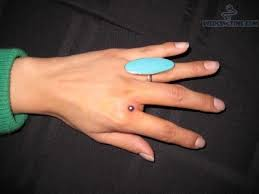hand: (38, 29, 236, 168)
